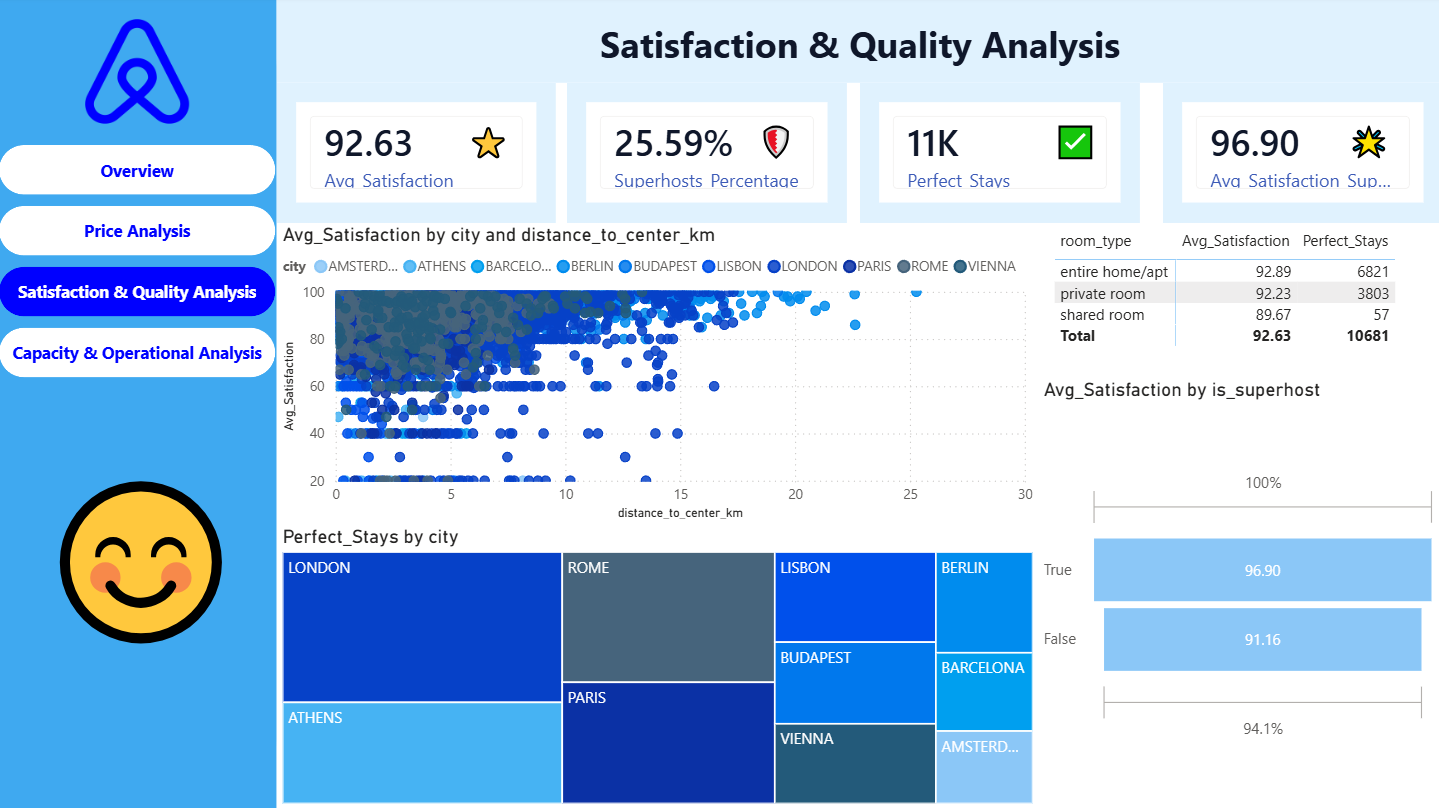

This screenshot's page, from the dashboard's own definition file:
{"tool":"powerbi","page":{"name":"Satisfaction & Quality Analysis","canvas":[1280,720],"ordinal":2},"visuals":[{"type":"shape","box":[0,0,246.1,719.8],"z":0},{"type":"image","box":[74.8,19.4,96.2,93.3],"z":1000},{"type":"pageNavigator","box":[0,131.2,245.9,206],"z":2000},{"type":"shape","box":[246.1,0,1033.9,75.9],"z":3000},{"type":"textbox","box":[246.1,19.5,1033.9,56.4],"z":4000},{"type":"cardVisual","fields":{"Data":["gold dim_hosts.Superhosts_Percentage"]},"box":[503.8,75.9,248,123.5],"z":5000},{"type":"cardVisual","fields":{"Data":["gold dim_hosts.Avg_Satisfaction"]},"box":[246.1,75.9,247.1,123.5],"z":6000},{"type":"cardVisual","fields":{"Data":["gold dim_hosts.Perfect_Stays"]},"box":[763.5,75.9,248,123.5],"z":7000},{"type":"cardVisual","fields":{"Data":["gold dim_hosts.Avg_Satisfaction_Superhosts"]},"box":[1032,75.9,248,123.5],"z":8000},{"type":"treemap","fields":{"Group":["gold dim_locations.city"],"Values":["gold dim_hosts.Perfect_Stays"]},"box":[246.1,467.8,675,251.9],"z":9000},{"type":"scatterChart","fields":{"X":["gold fact_listings.distance_to_center_km"],"Series":["gold dim_locations.city"],"Y":["gold dim_hosts.Avg_Satisfaction"]},"box":[246.1,200.4,675,267.5],"z":10000},{"type":"pivotTable","fields":{"Rows":["gold dim_properties.room_type"],"Values":["gold dim_hosts.Avg_Satisfaction","gold dim_hosts.Perfect_Stays"]},"box":[930.8,200.4,349.2,134.2],"z":11000},{"type":"funnel","fields":{"Category":["gold dim_hosts.is_superhost"],"Y":["gold dim_hosts.Avg_Satisfaction"]},"box":[921.1,337.5,358.9,382.2],"z":12000},{"type":"textbox","box":[669.2,105,49.6,51.6],"z":13000},{"type":"textbox","box":[410.5,105,49.6,51.6],"z":14000},{"type":"textbox","box":[930.8,105,49.6,51.6],"z":15000},{"type":"textbox","box":[1191.5,105,49.6,51.6],"z":16000},{"type":"textbox","box":[33.1,403.6,178,190.6],"z":17000}]}

Visuals, with their boxes on the page's 1280x720 design canvas (x1, y1, x2, y2). These are canvas units, not pixel positions in the 1439x808 screenshot, which may show the page scaled, cropped or inside an application window:
shape: box(0, 0, 246, 720)
image: box(75, 19, 171, 113)
pageNavigator: box(0, 131, 246, 337)
shape: box(246, 0, 1280, 76)
textbox: box(246, 20, 1280, 76)
cardVisual - gold dim_hosts.Superhosts_Percentage: box(504, 76, 752, 199)
cardVisual - gold dim_hosts.Avg_Satisfaction: box(246, 76, 493, 199)
cardVisual - gold dim_hosts.Perfect_Stays: box(764, 76, 1012, 199)
cardVisual - gold dim_hosts.Avg_Satisfaction_Superhosts: box(1032, 76, 1280, 199)
treemap - gold dim_locations.city x gold dim_hosts.Perfect_Stays: box(246, 468, 921, 720)
scatterChart - gold fact_listings.distance_to_center_km x gold dim_locations.city: box(246, 200, 921, 468)
pivotTable - gold dim_properties.room_type x gold dim_hosts.Avg_Satisfaction: box(931, 200, 1280, 335)
funnel - gold dim_hosts.is_superhost x gold dim_hosts.Avg_Satisfaction: box(921, 338, 1280, 720)
textbox: box(669, 105, 719, 157)
textbox: box(410, 105, 460, 157)
textbox: box(931, 105, 980, 157)
textbox: box(1192, 105, 1241, 157)
textbox: box(33, 404, 211, 594)
